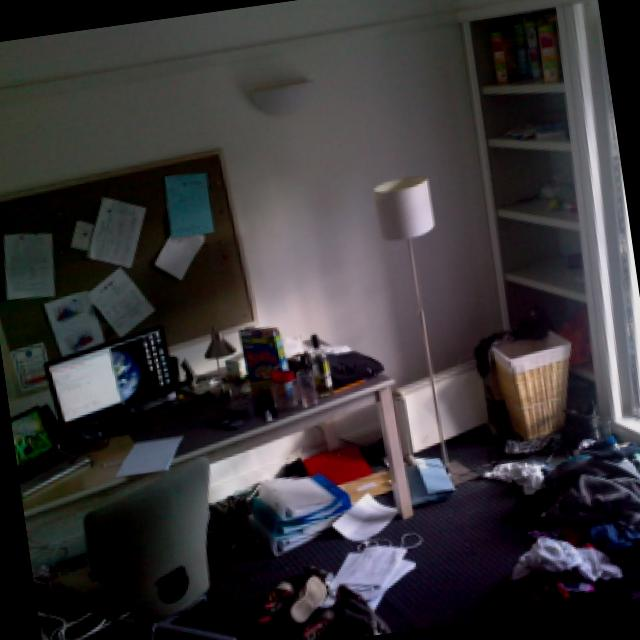mess: (460, 11, 623, 424), (4, 320, 416, 480), (241, 462, 416, 640), (484, 427, 640, 617), (302, 416, 548, 514)
